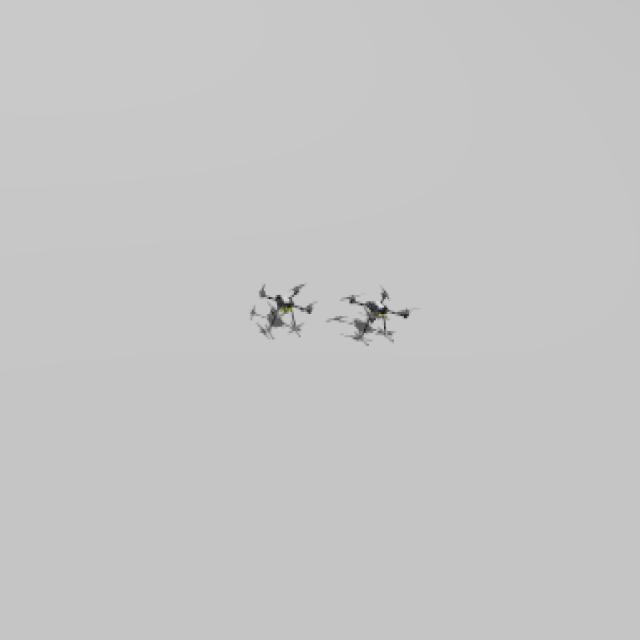drone: (342, 285, 412, 349), (253, 280, 317, 338)
